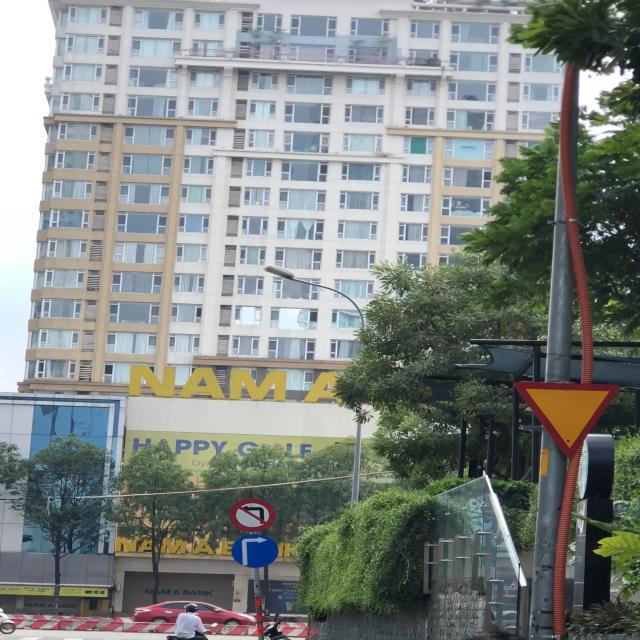Bien bao cam re trai: (226, 493, 278, 533)
Bien bao giao nhau voi duong uu tien: (508, 372, 633, 458)
Bien bao huong di phai theo: (229, 532, 280, 570)
